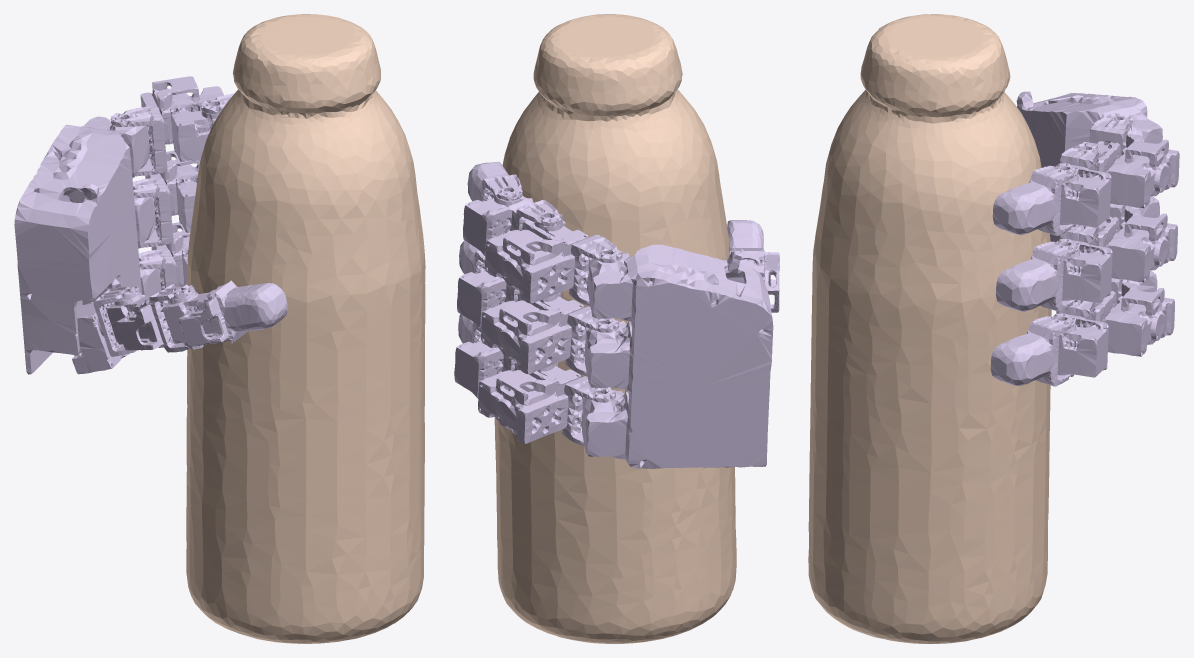
3 views of the same model, side by side, from view 1: azimuth 30°, elevation 25°; view 2: azimuth 150°, elevation 25°; view 3: azimuth 270°, elevation 25° (orthographic).
Visible parts, largest first — view 1: world, LEAP_hand; view 2: world, LEAP_hand; view 3: world, LEAP_hand.
Part boxes in pixels (left/top/right/bottom): world: left=186, top=14, right=425, bottom=643; LEAP_hand: left=14, top=76, right=287, bottom=374; world: left=494, top=14, right=736, bottom=643; LEAP_hand: left=454, top=161, right=779, bottom=468; world: left=808, top=14, right=1051, bottom=643; LEAP_hand: left=990, top=91, right=1179, bottom=386.
Bounding box in the file's own units: 0.2216 × 0.3594 × 0.2115.
